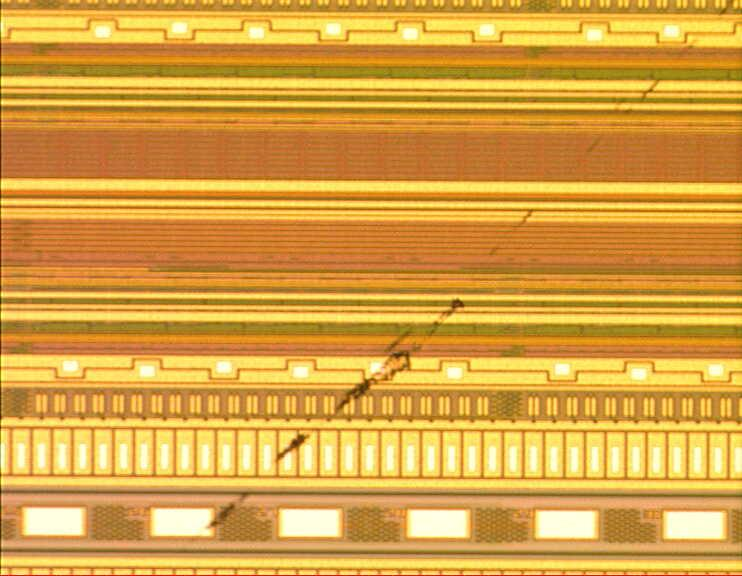SCRATCH: (183, 1, 742, 554)
